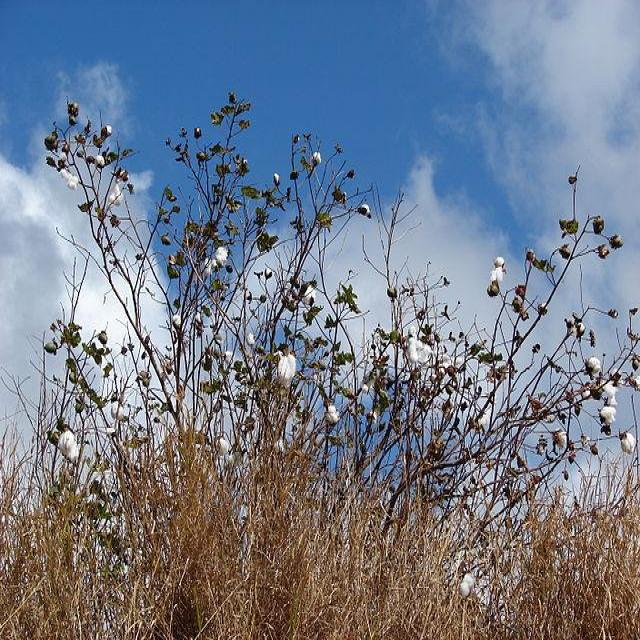Late_blight: (404, 324, 434, 365), (403, 326, 431, 366), (54, 428, 80, 465), (576, 349, 605, 378), (58, 426, 79, 462), (275, 352, 296, 387), (276, 354, 297, 388), (490, 250, 509, 284), (58, 165, 80, 190), (325, 401, 341, 427), (214, 245, 233, 266), (215, 244, 228, 266), (311, 146, 322, 168), (93, 152, 105, 171)
